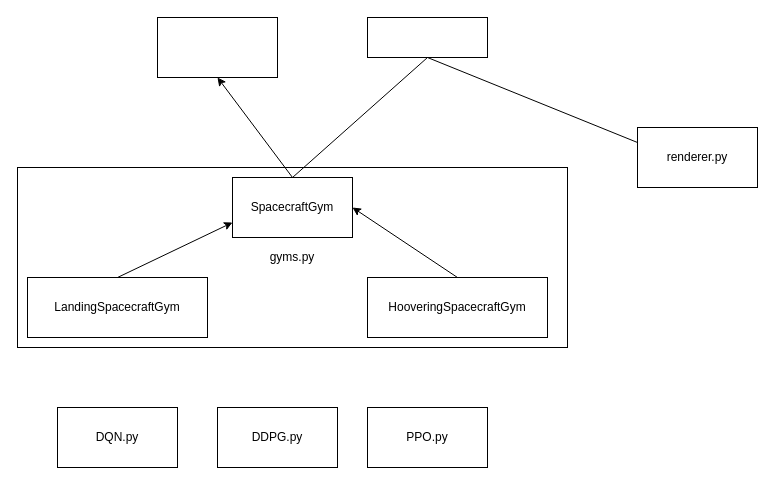
The diagram is 775 pixels wide and 485 high, and some of its shapes have lost their labels. The centre of each missing label's shape, as x and y in pixels:
"gymnasium gym" belongs at point 217,47.
"Spacecraft simulator" belongs at point 427,37.
